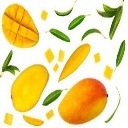mango: (58, 78, 109, 125)
